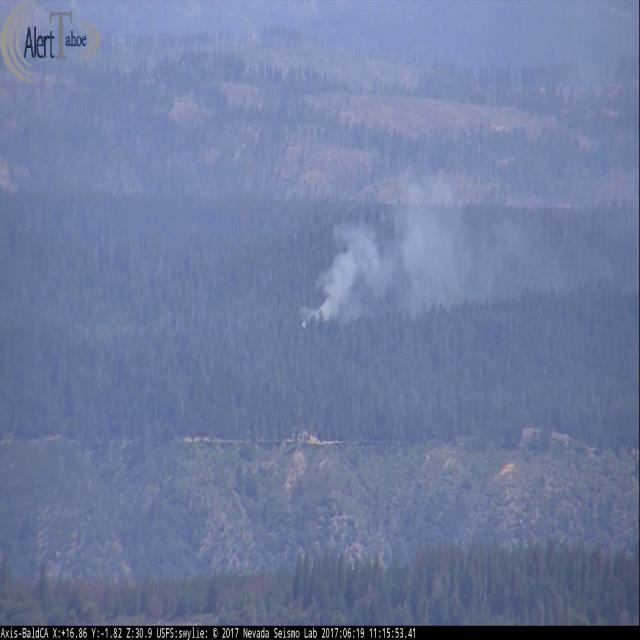smoke: (296, 151, 601, 334)
